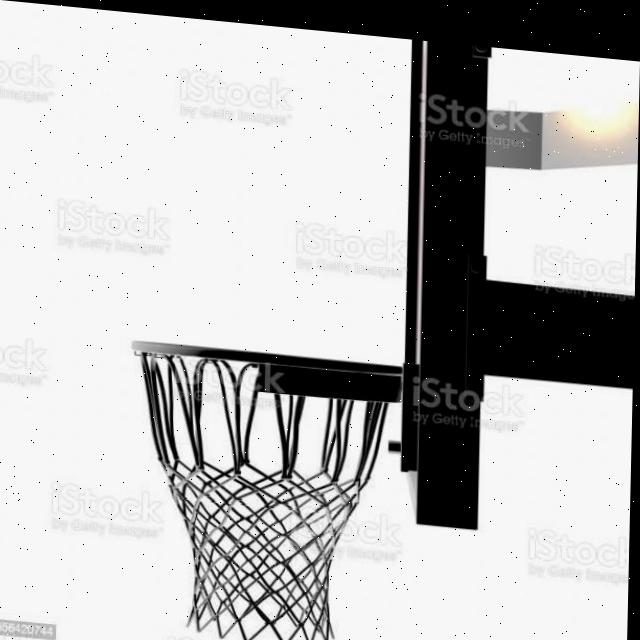hoop: (124, 338, 404, 640)
